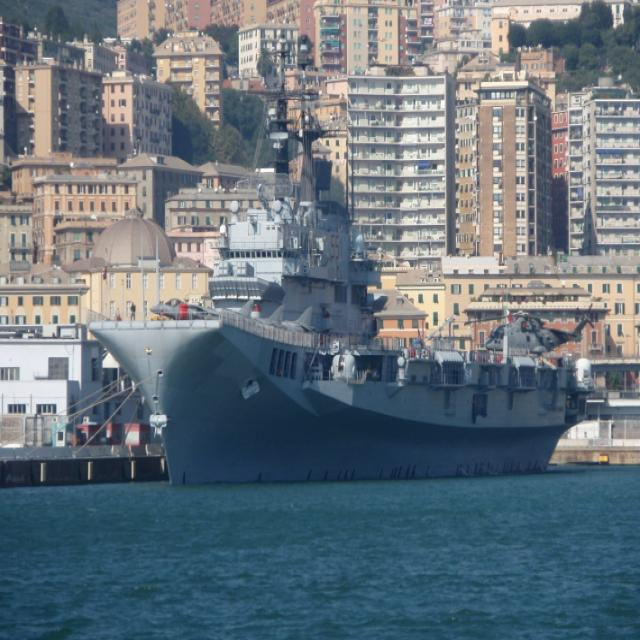Portanaves: (84, 87, 593, 497)
